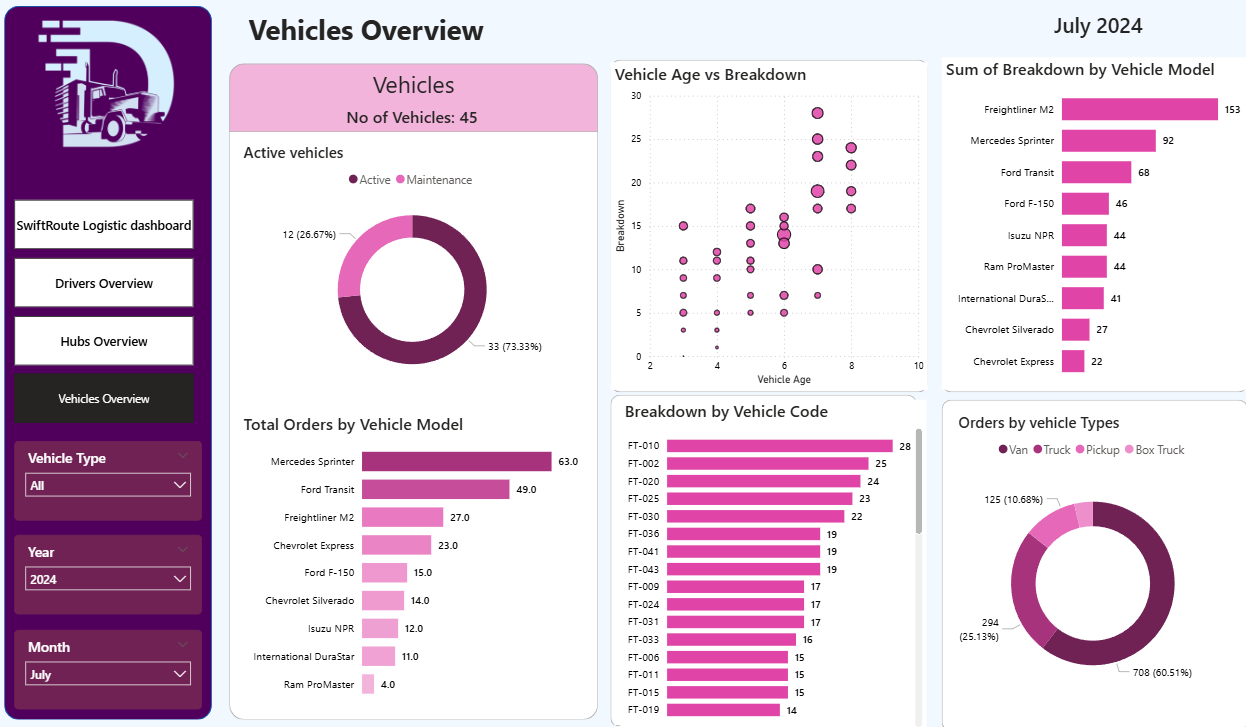

The page's visual inventory and layout, read from the dashboard file:
{"tool":"powerbi","page":{"name":"Vehicles Overview","canvas":[1450,850],"ordinal":3},"visuals":[{"type":"shape","box":[13,11.5,239.6,824.3],"z":0},{"type":"textbox","box":[290.2,11.5,1140.5,73.6],"z":1000},{"type":"slicer","fields":{"Values":["Date Table.Year"]},"box":[24.5,622.2,216.5,92.4],"z":2000},{"type":"slicer","fields":{"Values":["Date Table.Month"]},"box":[24.5,731.9,216.5,92.4],"z":3000},{"type":"image","box":[24.5,11.5,216.5,192],"z":4000},{"type":"cardVisual","fields":{"Data":["Orders.Year Month Value"]},"box":[1133.2,0,287.3,63.5],"z":5000},{"type":"shape","box":[713.1,73.6,366.7,384],"z":6000},{"type":"slicer","fields":{"Values":["Orders.Vehicle Type"]},"box":[24.5,513.9,216.5,92.4],"z":7000},{"type":"shape","box":[272.8,78,425.9,757.9],"z":8000},{"type":"shape","box":[272.8,78,425.9,79.4],"z":9000},{"type":"textbox","box":[272.8,78,425.9,50.5],"z":10000},{"type":"cardVisual","fields":{"Data":["Vehicles.No of Vehicles"]},"box":[284.4,118.4,399.9,39],"z":11000},{"type":"donutChart","title":"Active vehicles","fields":{"Category":["Vehicles.Vehicle Status"],"Y":["CountNonNull(Vehicles.Vehicle ID)"]},"box":[284.4,168.9,399.9,288.7],"z":12000},{"type":"barChart","fields":{"Category":["Vehicles.Vehicle Model"],"Y":["Orders.Total Orders"]},"box":[284.4,480.7,399.9,343.6],"z":13000},{"type":"shape","box":[1095.7,73.6,353.7,384],"z":14000},{"type":"scatterChart","title":"Vehicle Age vs Breakdown","fields":{"Y":["Vehicles.Breakdown"],"X":["Vehicles.Vehicle Age"],"Size":["Sum(Vehicles.Breakdown)1"]},"box":[713.1,76.5,366.7,378.2],"z":15000},{"type":"shape","box":[713.1,460.5,353.7,384],"z":16000},{"type":"clusteredBarChart","title":"Breakdown by Vehicle Code","fields":{"Y":["Sum(Vehicles.Breakdown)"],"Category":["Vehicles.Vehicle Code"]},"box":[724.7,466.3,353.7,384],"z":17000},{"type":"clusteredBarChart","fields":{"Category":["Vehicles.Vehicle Model"],"Y":["Sum(Vehicles.Breakdown)"]},"box":[1095.7,70.7,353.7,384],"z":18000},{"type":"shape","box":[1095.7,466.3,353.7,384],"z":19000},{"type":"donutChart","title":"Orders by vehicle Types","fields":{"Y":["Orders.Total Orders"],"Category":["Orders.Vehicle Type"]},"box":[1110.1,480.7,320.5,343.6],"z":20000},{"type":"pageNavigator","box":[24.5,235.3,207.9,258.4],"z":20001}]}

Visuals, with their boxes in screenshot pixels (x1, y1, x2, y2), scaled from the page's 1450x850 canvas onto the 1246x727 screenshot:
shape: bbox(11, 10, 217, 715)
textbox: bbox(249, 10, 1229, 73)
slicer - Date Table.Year: bbox(21, 532, 207, 611)
slicer - Date Table.Month: bbox(21, 626, 207, 705)
image: bbox(21, 10, 207, 174)
cardVisual - Orders.Year Month Value: bbox(974, 0, 1221, 54)
shape: bbox(613, 63, 928, 391)
slicer - Orders.Vehicle Type: bbox(21, 440, 207, 519)
shape: bbox(234, 67, 600, 715)
shape: bbox(234, 67, 600, 135)
textbox: bbox(234, 67, 600, 110)
cardVisual - Vehicles.No of Vehicles: bbox(244, 101, 588, 135)
"Active vehicles" donutChart: bbox(244, 144, 588, 391)
barChart - Vehicles.Vehicle Model x Orders.Total Orders: bbox(244, 411, 588, 705)
shape: bbox(942, 63, 1245, 391)
"Vehicle Age vs Breakdown" scatterChart: bbox(613, 65, 928, 389)
shape: bbox(613, 394, 917, 722)
"Breakdown by Vehicle Code" clusteredBarChart: bbox(623, 399, 927, 726)
clusteredBarChart - Vehicles.Vehicle Model x Sum(Vehicles.Breakdown): bbox(942, 60, 1245, 389)
shape: bbox(942, 399, 1245, 726)
"Orders by vehicle Types" donutChart: bbox(954, 411, 1229, 705)
pageNavigator: bbox(21, 201, 200, 422)
